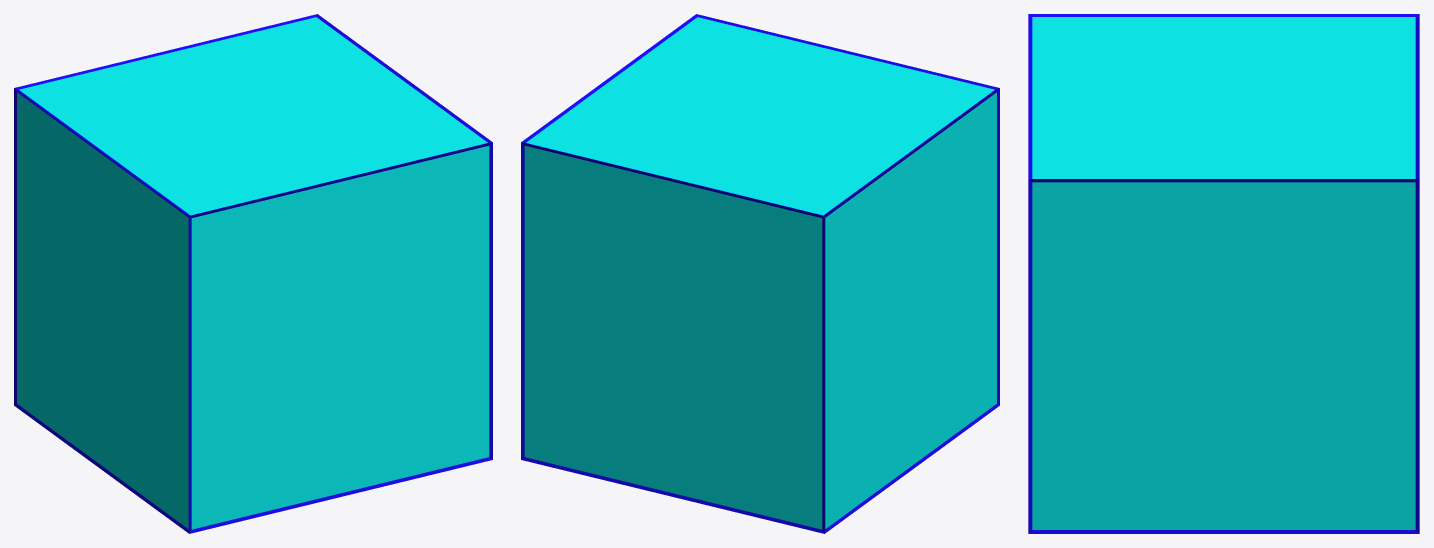
File: mainCube.glb
3 views of the same model, side by side, from view 1: azimuth 30°, elevation 25°; view 2: azimuth 150°, elevation 25°; view 3: azimuth 270°, elevation 25° (orthographic). The views are drawn at different scales.
Visible parts, largest first — view 1: mainCube, wireframe; view 2: mainCube, wireframe; view 3: mainCube, wireframe.
Boxes of the visible parts, box(x1,y1,x2,y2) form: mainCube: box(17, 17, 489, 529); wireframe: box(14, 14, 492, 533); mainCube: box(524, 17, 996, 529); wireframe: box(521, 14, 999, 533); mainCube: box(1032, 17, 1415, 529); wireframe: box(1028, 14, 1419, 533).
Bounding box in the file's own units: 1.61 × 1.61 × 1.61.
